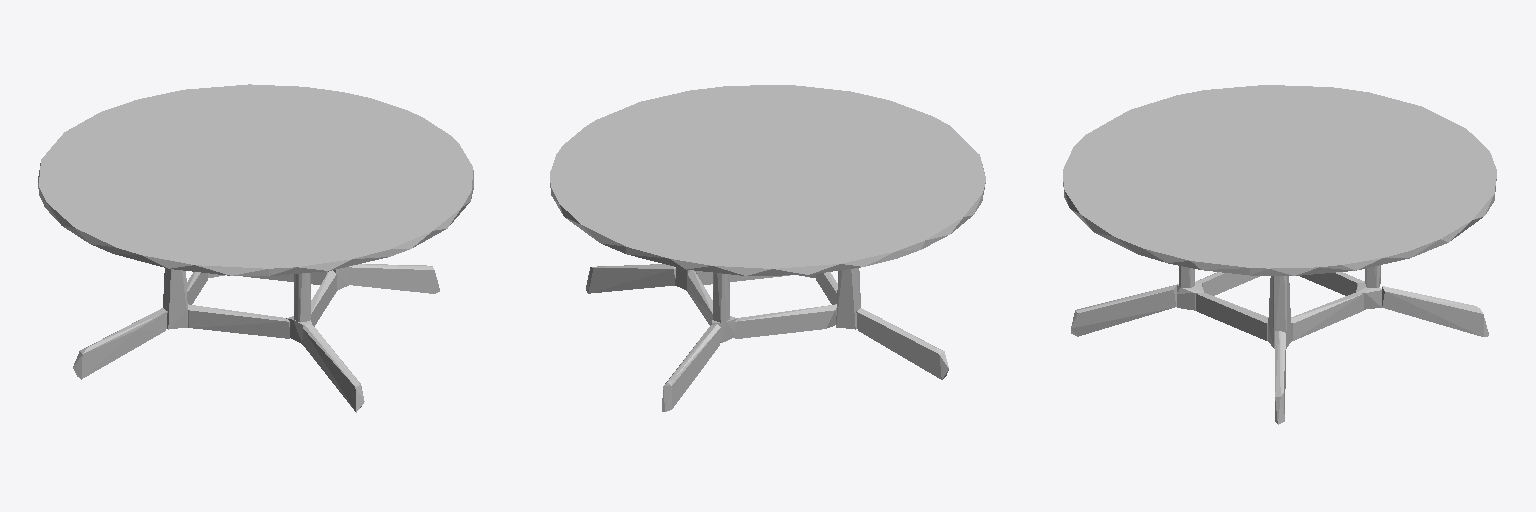
Rendered from model_normalized_convex.obj.
3 views of the same model, side by side, from view 1: azimuth 30°, elevation 25°; view 2: azimuth 150°, elevation 25°; view 3: azimuth 270°, elevation 25° (orthographic).
Visible parts, largest first — view 1: convex_0, convex_6, convex_8, convex_3, convex_10, convex_14, convex_19, convex_2; view 2: convex_0, convex_6, convex_7, convex_3, convex_9, convex_14, convex_17, convex_1; view 3: convex_0, convex_9, convex_10, convex_2, convex_1, convex_11, convex_3, convex_7, convex_8.
Part boxes in pixels (bbox=[...]): convex_0: bbox=[38, 84, 473, 275]; convex_6: bbox=[73, 308, 167, 379]; convex_8: bbox=[188, 304, 289, 338]; convex_3: bbox=[348, 264, 439, 293]; convex_10: bbox=[302, 325, 364, 412]; convex_14: bbox=[163, 268, 187, 329]; convex_19: bbox=[294, 273, 310, 322]; convex_2: bbox=[311, 270, 336, 326]; convex_0: bbox=[550, 85, 985, 275]; convex_6: bbox=[856, 308, 948, 379]; convex_7: bbox=[735, 304, 836, 338]; convex_3: bbox=[586, 264, 675, 293]; convex_9: bbox=[662, 324, 720, 411]; convex_14: bbox=[836, 268, 860, 329]; convex_17: bbox=[713, 273, 729, 322]; convex_1: bbox=[687, 270, 712, 325]; convex_0: bbox=[1063, 85, 1496, 275]; convex_9: bbox=[1382, 286, 1488, 336]; convex_10: bbox=[1071, 285, 1176, 336]; convex_2: bbox=[1196, 293, 1268, 340]; convex_1: bbox=[1291, 293, 1363, 340]; convex_11: bbox=[1268, 276, 1291, 348]; convex_3: bbox=[1275, 331, 1285, 424]; convex_7: bbox=[1300, 272, 1364, 295]; convex_8: bbox=[1196, 272, 1259, 295].
Size of the model in its own units: 0.6826 by 0.2748 by 0.6826.